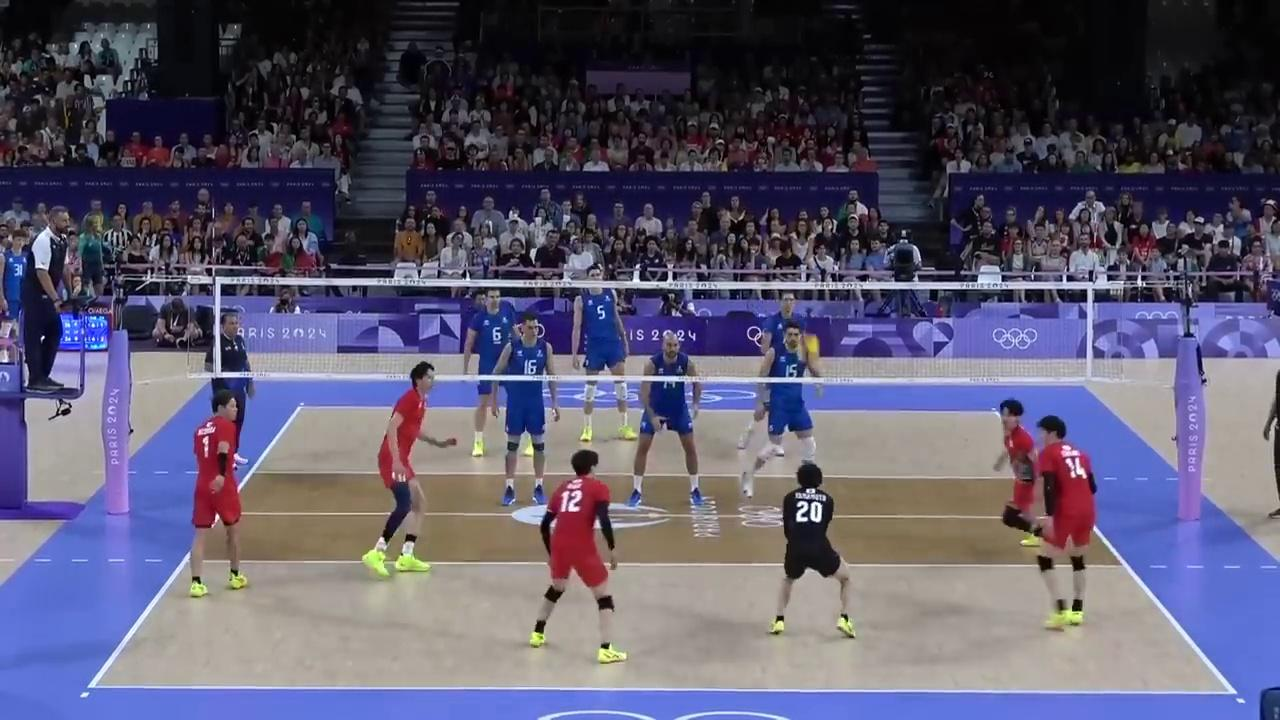ball: (798, 334, 818, 362)
